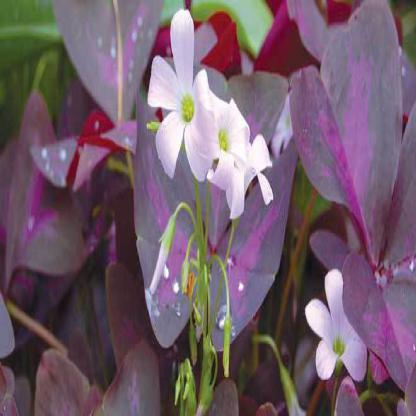Kupu-Kupu: (132, 55, 282, 326), (335, 29, 416, 375), (44, 7, 158, 141)
